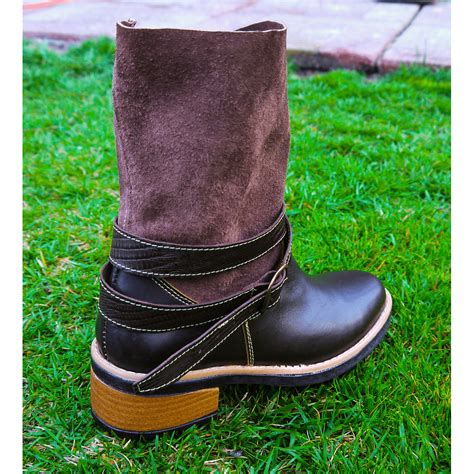cuero: (97, 227, 390, 390)
